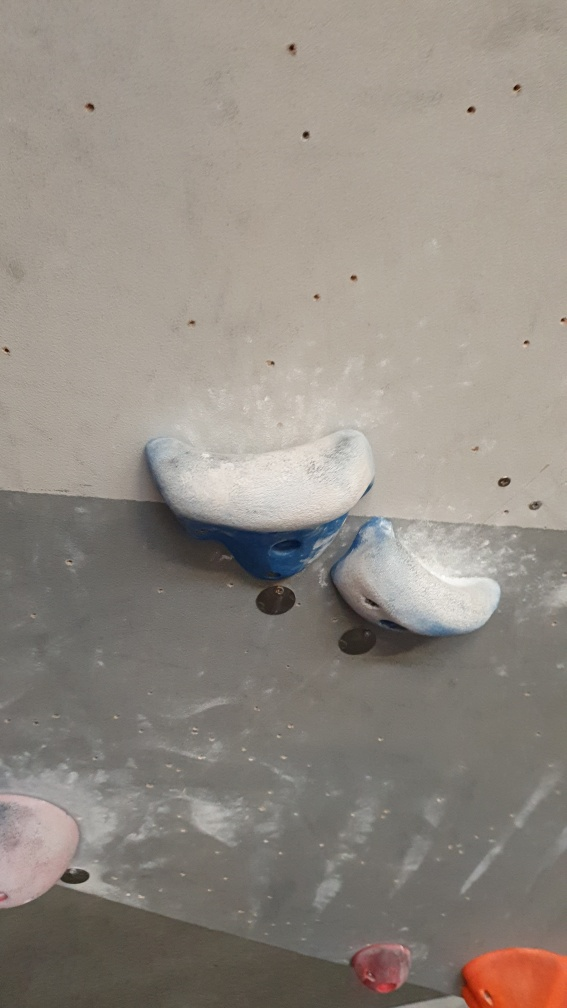Hand Start: (328, 617, 380, 661), (251, 584, 304, 622), (58, 861, 91, 894)
Jug: (142, 430, 373, 582), (329, 519, 504, 644)
Sloper: (1, 790, 104, 916)
